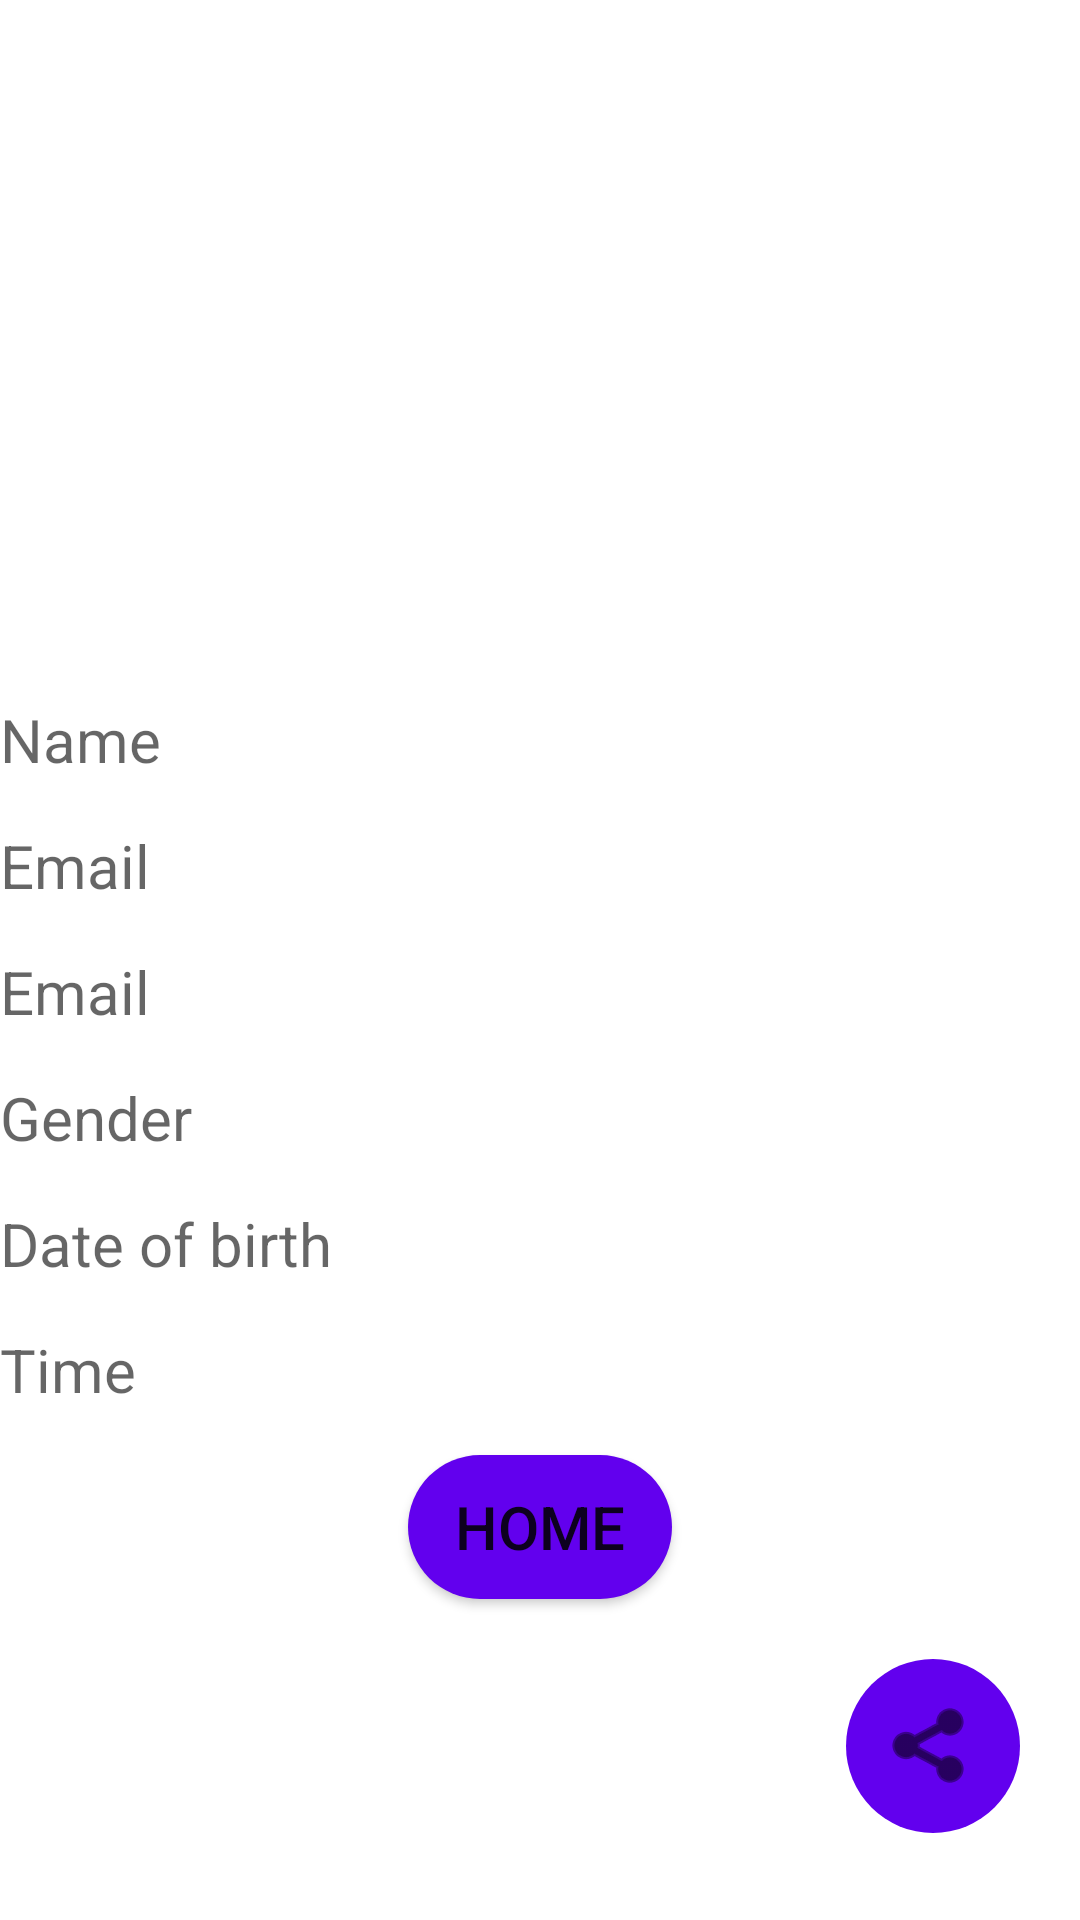

Icon click points for this 1080px×1920px phone screenshot, format (x=x, y=y):
share: (x=933, y=1746)
